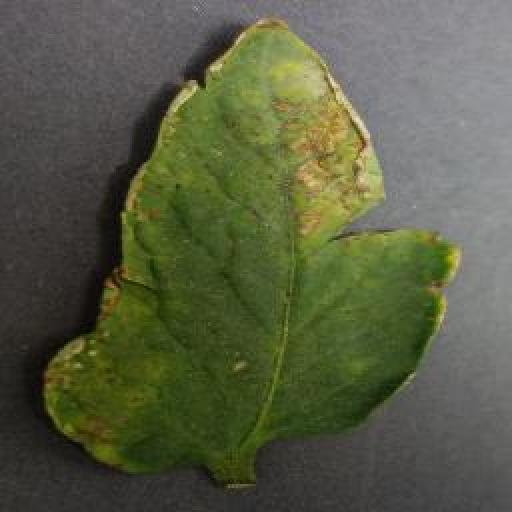Bacterial Spot: (43, 14, 460, 478)
